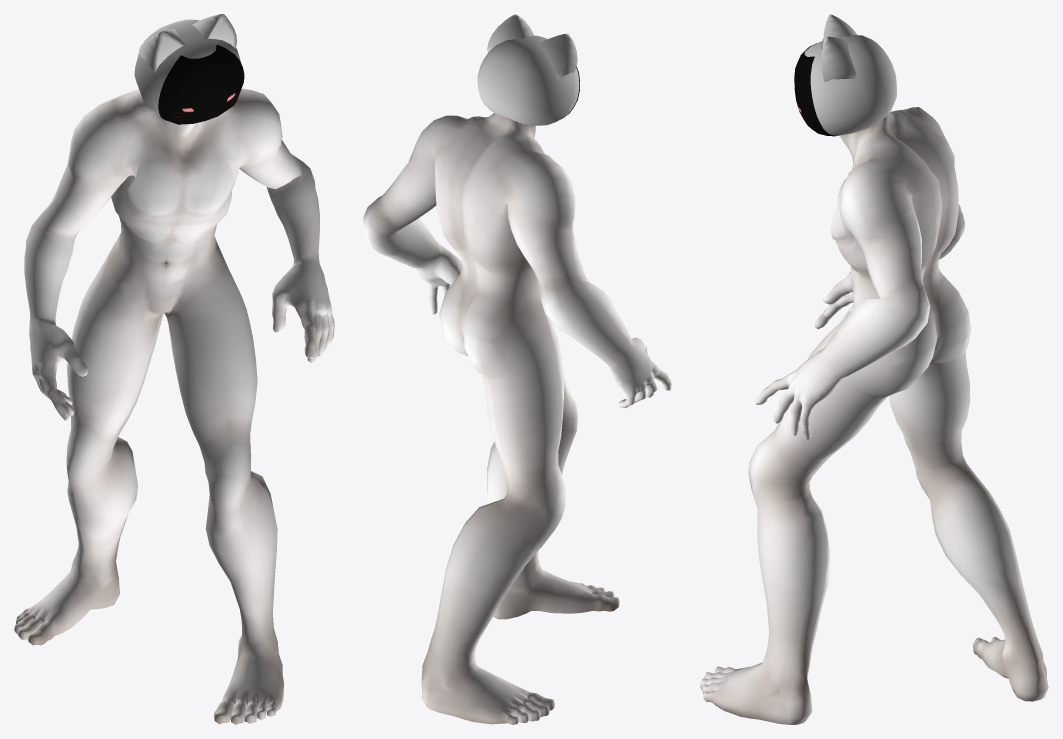
3 views of the same model, side by side, from view 1: azimuth 30°, elevation 25°; view 2: azimuth 150°, elevation 25°; view 3: azimuth 270°, elevation 25° (orthographic). The views are drawn at different scales.
Parts seen in each view (by area): view 1: Muscle_Body, ______?001, Cat_Head; view 2: Muscle_Body, Cat_Head; view 3: Muscle_Body, Cat_Head, ______?001.
Part boxes in pixels (<box>): Muscle_Body: <box>14,88,334,724</box>; ______?001: <box>158,45,244,124</box>; Cat_Head: <box>134,14,240,115</box>; Muscle_Body: <box>363,113,671,724</box>; Cat_Head: <box>477,14,579,125</box>; Muscle_Body: <box>700,107,1048,724</box>; Cat_Head: <box>804,14,896,135</box>; ______?001: <box>794,43,836,136</box>.
Size of the model in its own units: 12.82 by 27.78 by 13.06.
